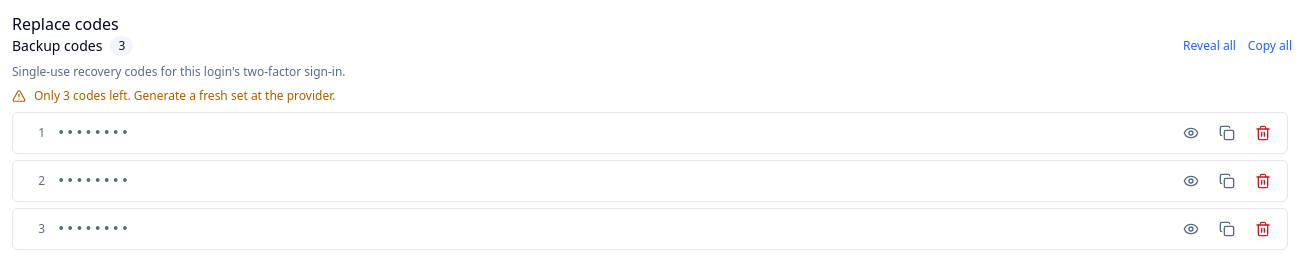
Test case: BackupCodeList rendering and masking › hides a revealed row again
The width and height of the screenshot is (1304, 267).
Click the button named "Reveal backup code 2".
click(1191, 181)  # box [1179,169,1203,193]
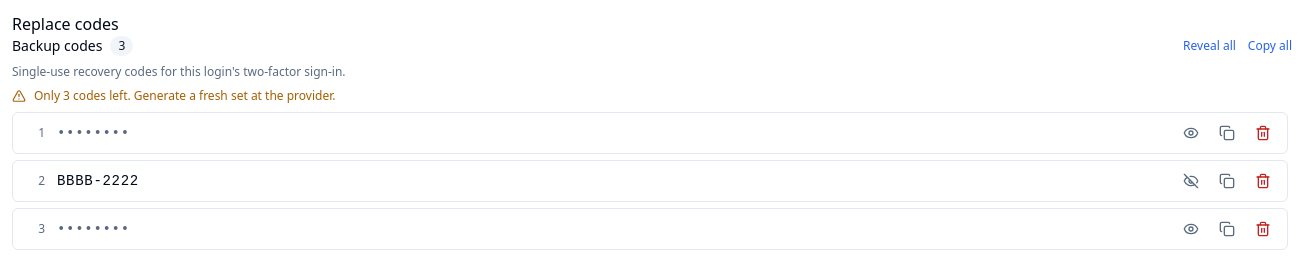
Click the button named "Hide backup code 2".
click(1191, 181)  # box [1179,169,1203,193]
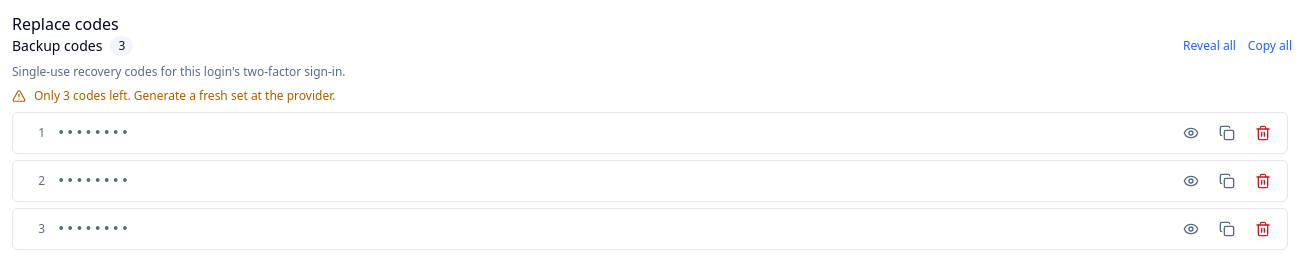
Result: the text "BBBB-2222" is gone
